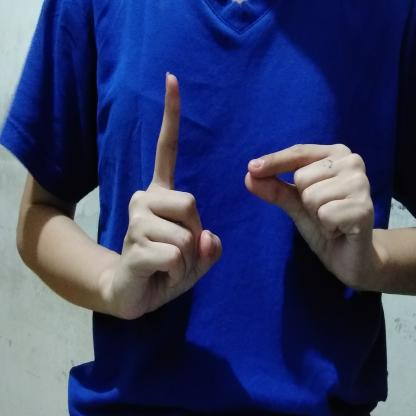son: (105, 64, 377, 326)
